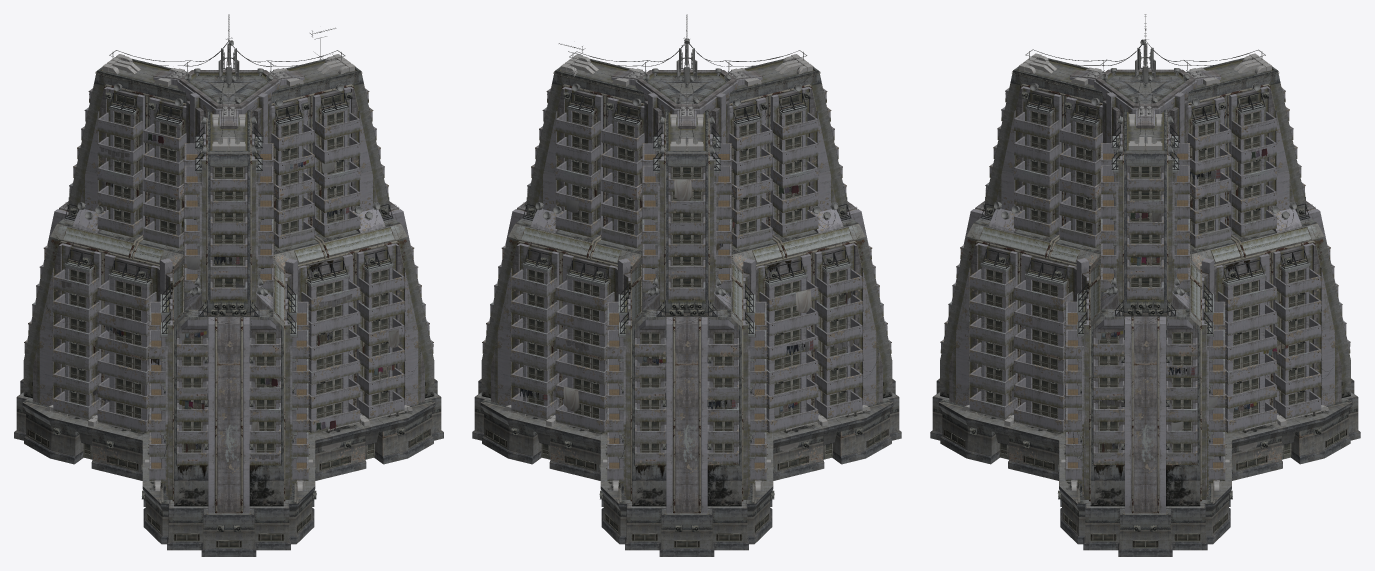
File: tricorner.glb
3 views of the same model, side by side, from view 1: azimuth 30°, elevation 25°; view 2: azimuth 150°, elevation 25°; view 3: azimuth 270°, elevation 25° (orthographic).
Parts seen in each view (by area): view 1: Walls, Balconies, Decals, Windows, Pipes, Aircon_Units, Roofing, Antennas, Clothing_Lines, Ducts, Cables; view 2: Walls, Balconies, Decals, Windows, Pipes, Aircon_Units, Roofing, Antennas, Clothing_Lines, Ducts, Cables; view 3: Walls, Balconies, Decals, Windows, Pipes, Aircon_Units, Roofing, Antennas, Ducts, Clothing_Lines, Cables.
Part boxes in pixels (x1,y1,x2,y2): Walls: (14,57,443,556); Balconies: (24,88,433,480); Decals: (24,60,434,513); Windows: (24,91,433,547); Pipes: (33,71,424,513); Aircon_Units: (52,92,405,531); Roofing: (63,104,394,458); Antennas: (77,14,380,296); Clothing_Lines: (61,133,399,460); Ducts: (45,54,412,491); Cables: (46,66,421,456); Walls: (472,57,901,556); Balconies: (482,88,891,480); Decals: (482,60,892,513); Windows: (482,91,891,547); Pipes: (491,71,882,513); Aircon_Units: (510,92,863,531); Roofing: (521,104,852,458); Antennas: (535,14,838,296); Clothing_Lines: (514,179,859,415); Ducts: (503,54,870,491); Cables: (503,68,879,468); Walls: (930,56,1360,556); Balconies: (941,88,1349,480); Decals: (940,59,1350,513); Windows: (940,90,1350,547); Pipes: (949,71,1341,513); Aircon_Units: (969,91,1321,531); Roofing: (980,104,1310,458); Antennas: (994,14,1296,295); Ducts: (961,53,1329,490); Clothing_Lines: (1068,87,1288,462); Cables: (962,65,1337,458).
Bounding box in the file's own units: 47.26 × 59.6 × 52.04.
Materials: 17 (15 with a texture image).
